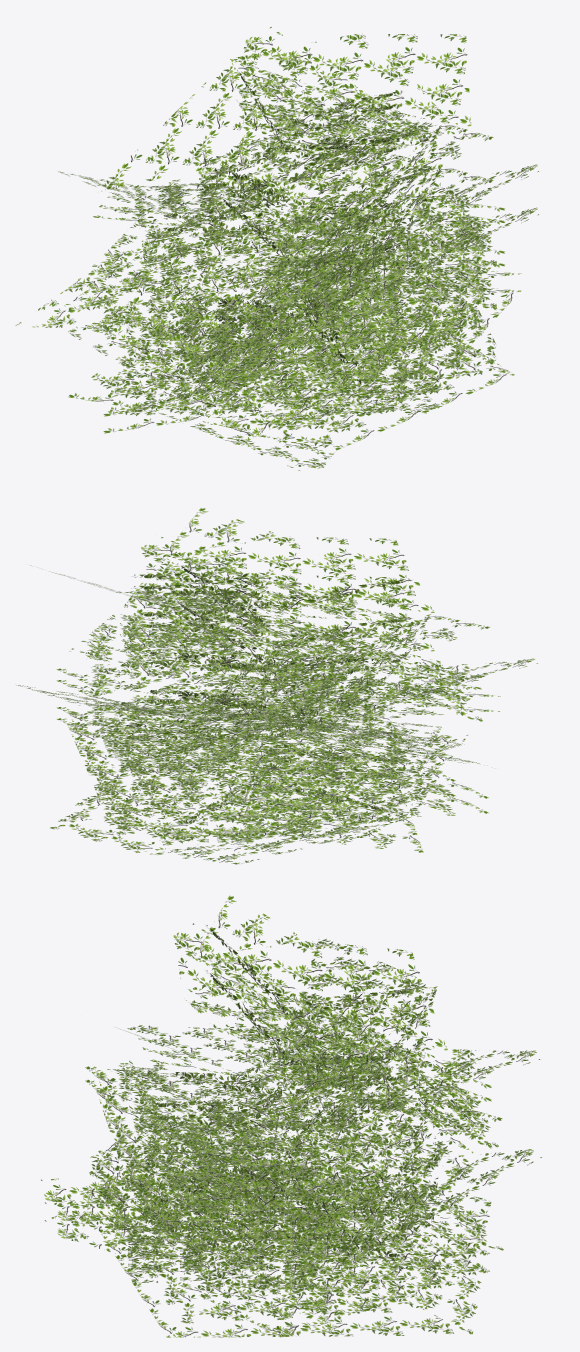
File: Bushe.glb
3 views of the same model, one above another, from view 1: azimuth 30°, elevation 25°; view 2: azimuth 150°, elevation 25°; view 3: azimuth 270°, elevation 25° (orthographic). The views are drawn at different scales.
Parts seen in each view (by area): view 1: empty_140; view 2: empty_140; view 3: empty_140.
Part boxes in pixels (<box>): empty_140: <box>15,27,538,470</box>; empty_140: <box>16,508,537,864</box>; empty_140: <box>41,895,541,1337</box>.
Size of the model in its own units: 1.76 by 0.8733 by 1.58.
1 material, 1 textured.
